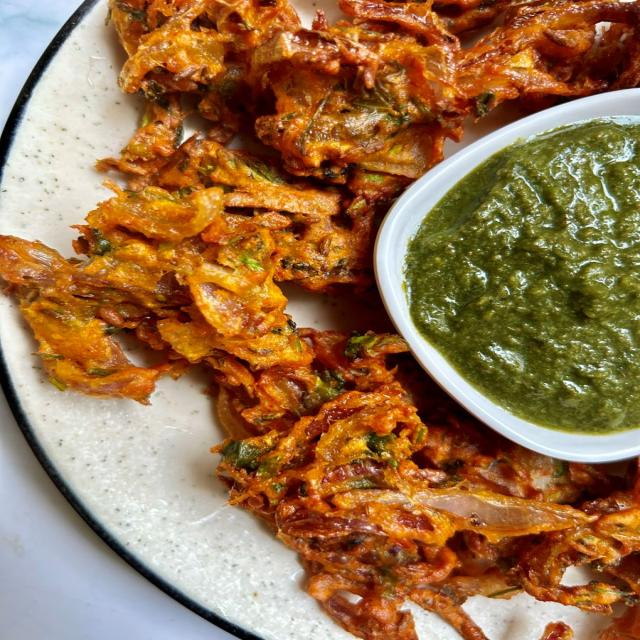BAJI: (11, 0, 639, 639)
